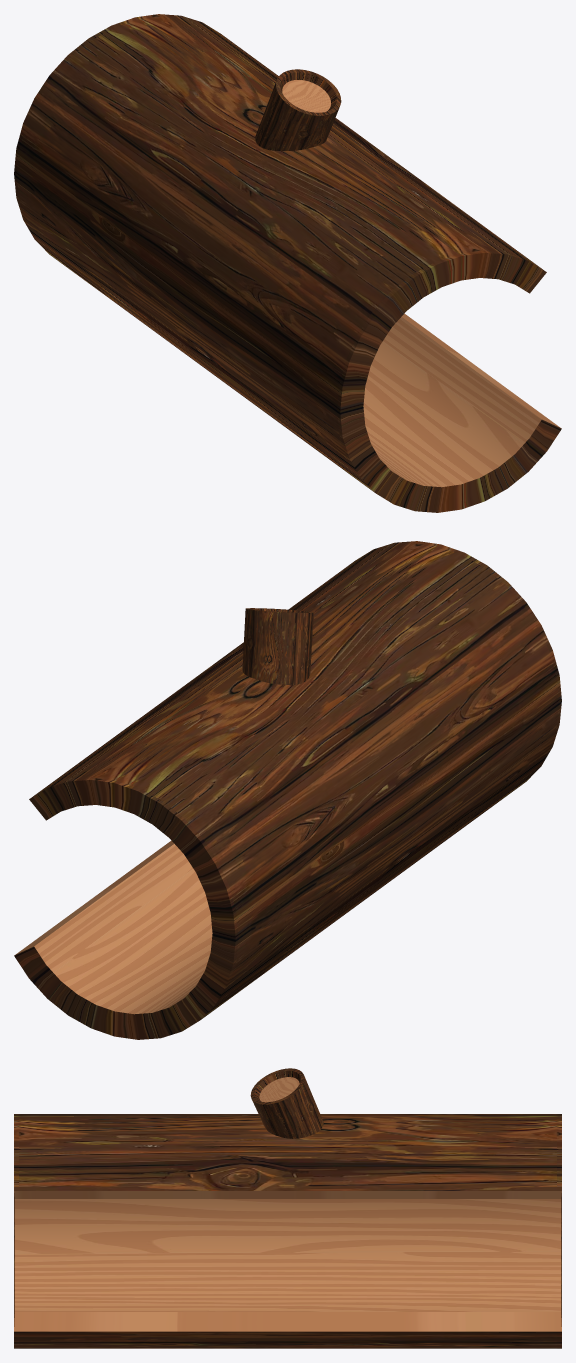
The model's file is Tronco.fbx.
The picture shows the model from 3 angles, top to bottom: view 1: azimuth 30°, elevation 25°; view 2: azimuth 150°, elevation 25°; view 3: azimuth 270°, elevation 25°; orthographic projection. The views are drawn at different scales.
Parts seen in each view (by area): view 1: Tronco; view 2: Tronco; view 3: Tronco.
Part boxes in pixels (<box>): Tronco: <box>14,14,561,512</box>; Tronco: <box>14,541,561,1039</box>; Tronco: <box>14,1068,561,1348</box>.
Bounding box in the file's own units: 183 × 247 × 467.
